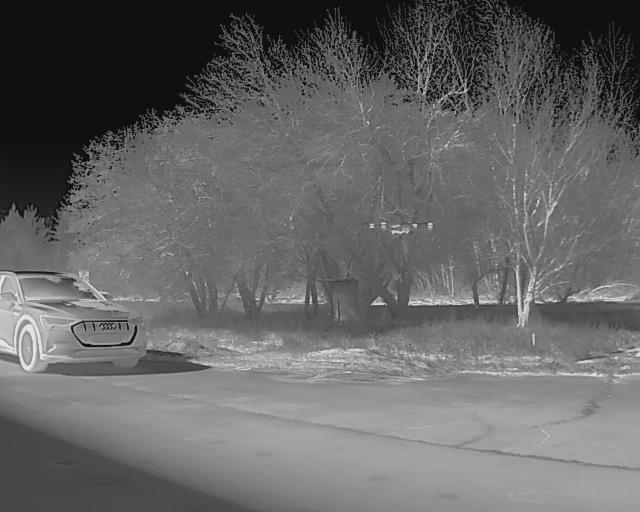drone: (359, 201, 436, 254)
